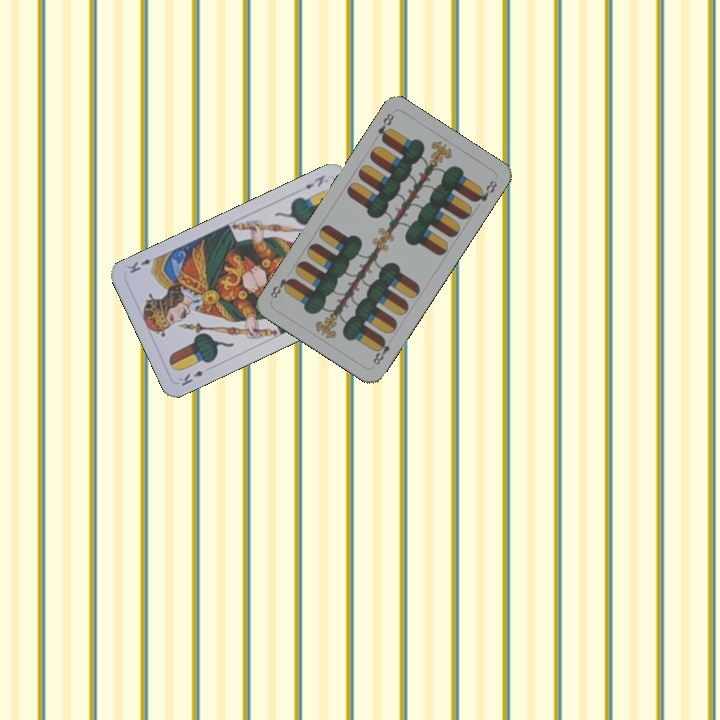E8: (373, 109, 397, 145), (369, 334, 393, 367)
EK: (174, 366, 206, 389), (301, 171, 328, 191)
